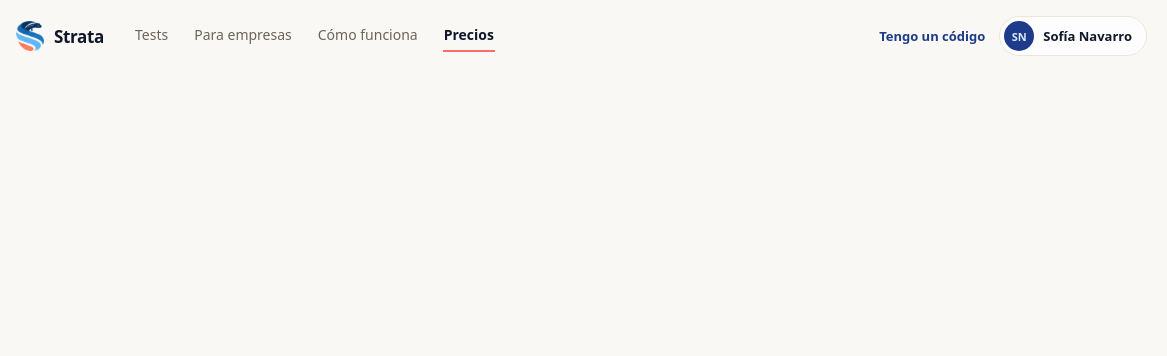
Test: Header (barra pública) › con organización y operador: Panel de RR. HH. → /app y Operación → /admin/creditos
Click the button named "menú de cuenta".
click(1073, 36)  # box [999, 16, 1147, 56]
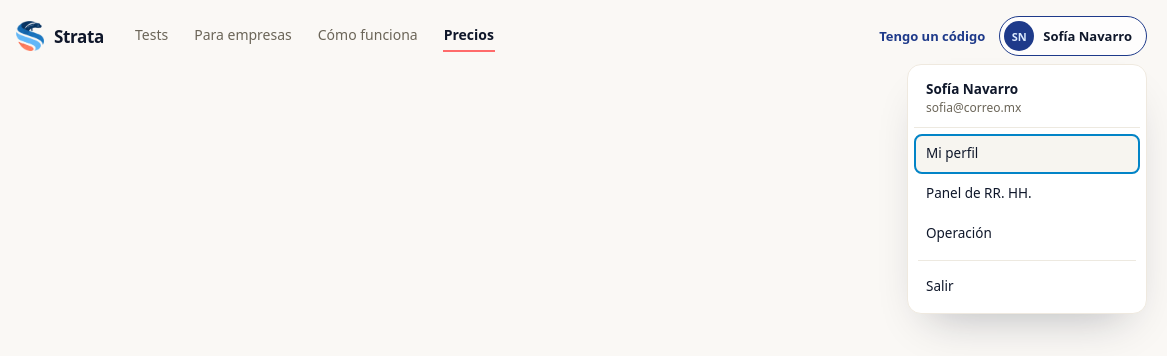
Expected: the menu items read "Mi perfil", "Panel de RR. HH.", "Operación", "Salir", in this order, [914, 134, 1140, 174]; [926, 184, 1032, 202]; [926, 224, 992, 242]; [914, 267, 1140, 307]
